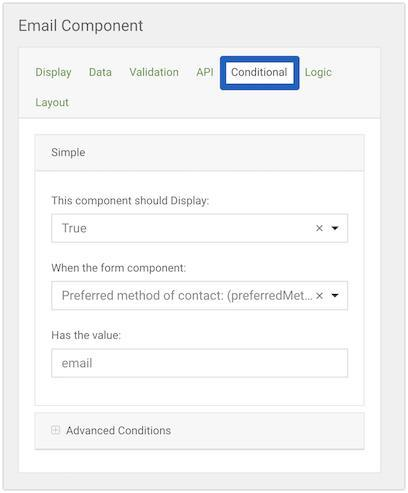button: (37, 414, 366, 451)
dropdown: (50, 213, 349, 245), (51, 280, 350, 311)
input: (51, 348, 351, 380)
label: (50, 194, 211, 208), (19, 20, 146, 35), (50, 263, 191, 275), (51, 330, 123, 342), (232, 67, 289, 80), (126, 68, 182, 79), (36, 68, 73, 80), (35, 98, 72, 110), (52, 147, 87, 159), (86, 67, 115, 79), (306, 68, 335, 79), (194, 67, 217, 79)
